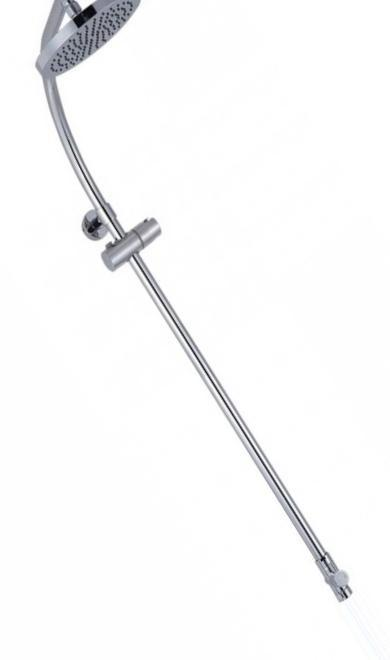Ducha: (27, 0, 371, 597)
